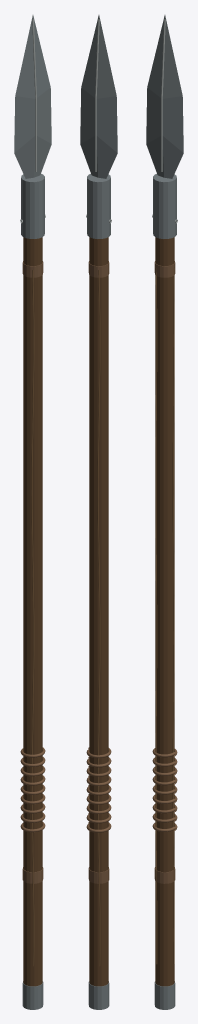
File: period_spear.glb
The picture shows the model from 3 angles, left to right: view 1: azimuth 30°, elevation 25°; view 2: azimuth 150°, elevation 25°; view 3: azimuth 330°, elevation 25°; orthographic projection.
Parts seen in each view (by area): view 1: Ash spear shaft, Leaf shaped forged spear head, Iron socket, Shaft grain.002, Iron butt cap, Spear blade central ridge highlight, Binding collar, Binding collar.001; view 2: Ash spear shaft, Leaf shaped forged spear head, Iron socket, Shaft grain.001, Iron butt cap, Spear blade central ridge highlight.001, Binding collar.001, Binding collar; view 3: Ash spear shaft, Leaf shaped forged spear head, Iron socket, Shaft grain, Shaft grain.002, Iron butt cap, Spear blade central ridge highlight, Binding collar, Binding collar.001.
Boxes of the visible parts, x1,y1,x2,y2 form: Ash spear shaft: [23, 237, 42, 986]; Leaf shaped forged spear head: [14, 15, 51, 178]; Iron socket: [21, 173, 44, 238]; Shaft grain.002: [31, 270, 34, 966]; Iron butt cap: [22, 981, 43, 1009]; Spear blade central ridge highlight: [32, 19, 36, 171]; Binding collar: [22, 867, 43, 883]; Binding collar.001: [22, 261, 43, 277]; Ash spear shaft: [89, 237, 108, 986]; Leaf shaped forged spear head: [80, 15, 117, 178]; Iron socket: [87, 173, 110, 238]; Shaft grain.001: [97, 270, 100, 966]; Iron butt cap: [88, 981, 109, 1009]; Spear blade central ridge highlight.001: [95, 19, 99, 171]; Binding collar.001: [88, 261, 109, 277]; Binding collar: [88, 867, 109, 883]; Ash spear shaft: [155, 237, 174, 986]; Leaf shaped forged spear head: [146, 15, 183, 178]; Iron socket: [153, 173, 176, 238]; Shaft grain: [172, 268, 174, 963]; Shaft grain.002: [155, 268, 157, 964]; Iron butt cap: [154, 981, 175, 1009]; Spear blade central ridge highlight: [161, 19, 165, 171]; Binding collar: [154, 867, 175, 883]; Binding collar.001: [154, 261, 175, 277].
Size of the model in its own units: 0.076 by 1.91 by 0.0436.
